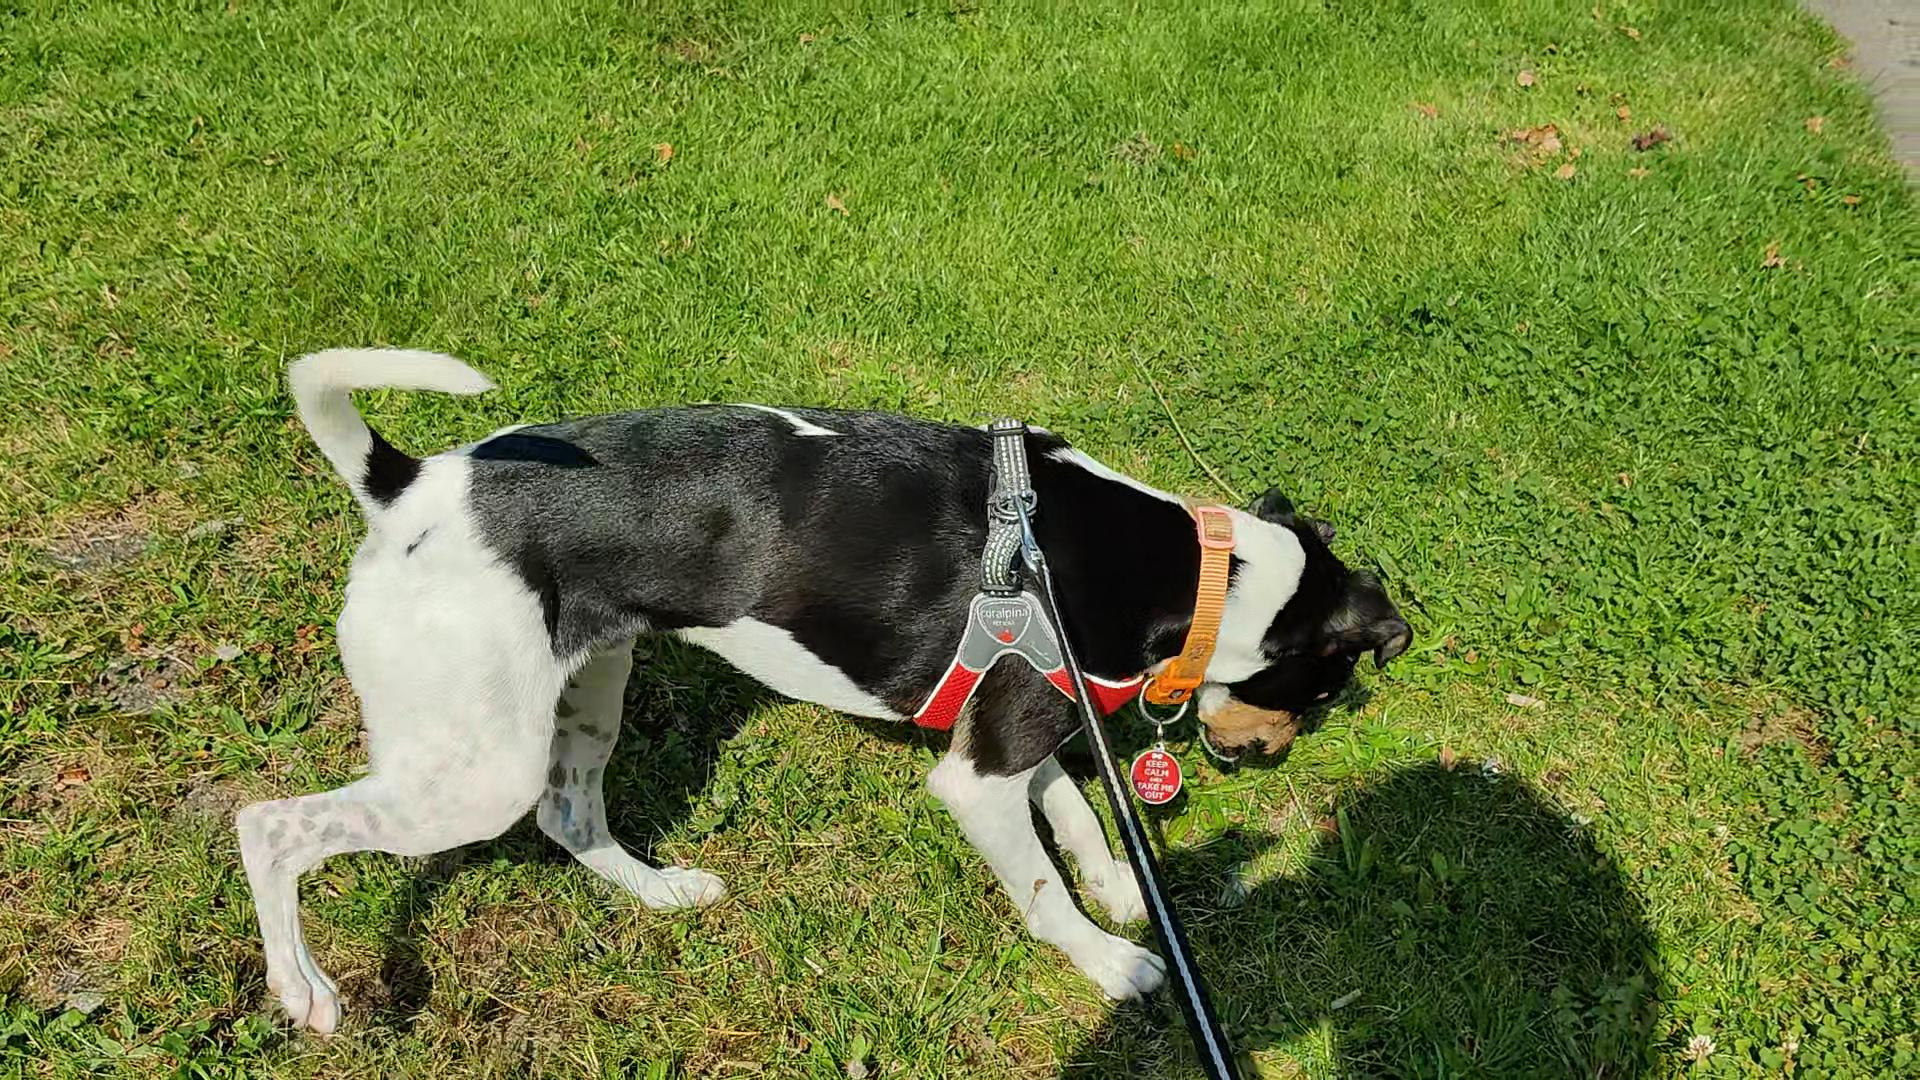Dog: (219, 319, 1422, 1046)
